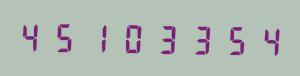five: (50, 18, 82, 54), (215, 21, 247, 57)
four: (17, 17, 49, 54), (248, 21, 280, 58)
one: (83, 18, 115, 55)
three: (149, 19, 181, 56), (182, 20, 214, 57)
zero: (116, 19, 148, 55)
